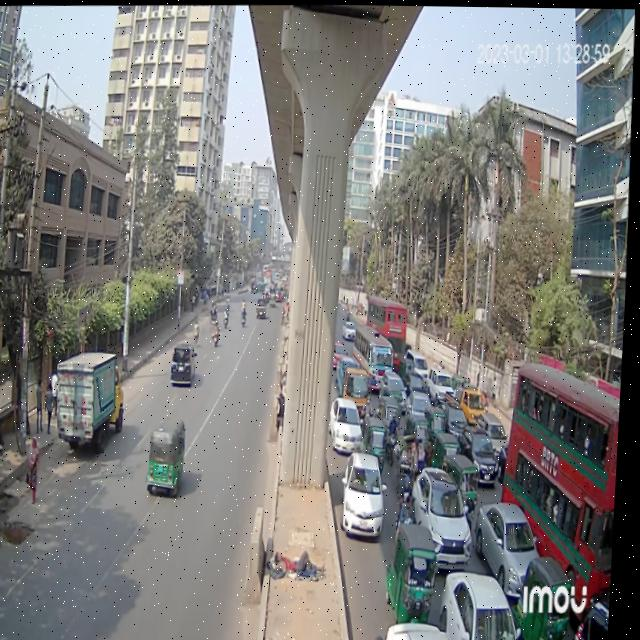cng: (383, 509, 451, 633), (149, 412, 194, 502), (448, 442, 486, 515), (359, 407, 392, 475), (436, 433, 467, 473), (428, 401, 450, 444)
